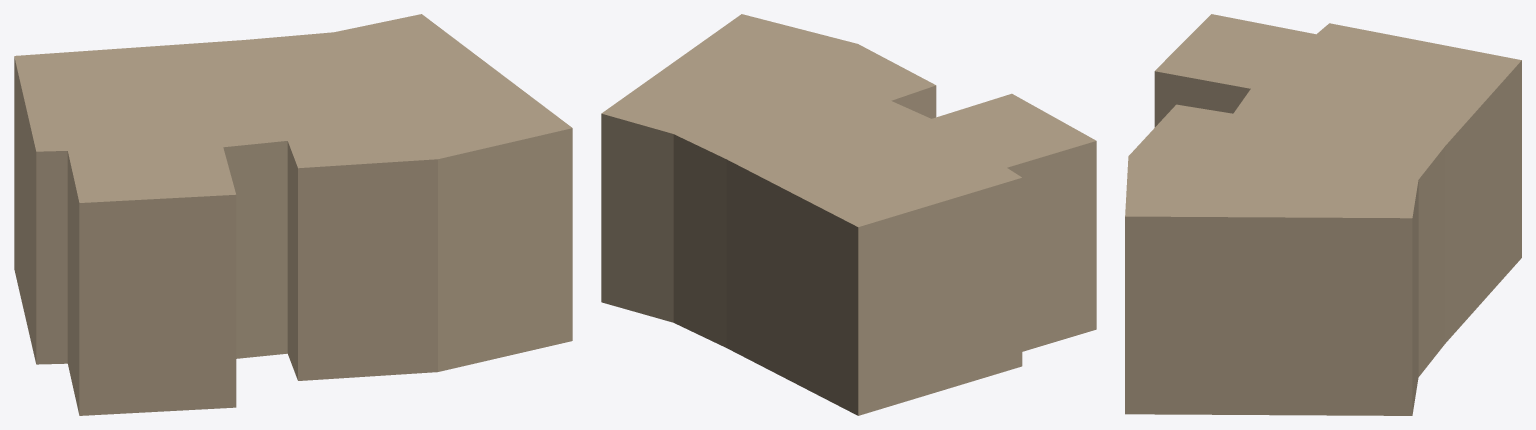
File: bld_97731203.dae
3 renders of one model, left to right at view 1: azimuth 30°, elevation 25°; view 2: azimuth 150°, elevation 25°; view 3: azimuth 270°, elevation 25°, orthographic. The views are drawn at different scales.
Visible parts, largest first — view 1: bld_97731203; view 2: bld_97731203; view 3: bld_97731203.
Part boxes in pixels (x1,y1,x2,y2): bld_97731203: (14, 14, 572, 415); bld_97731203: (601, 14, 1096, 415); bld_97731203: (1125, 14, 1521, 415).
Bounding box in the file's own units: 17.72 × 14.55 × 8.
